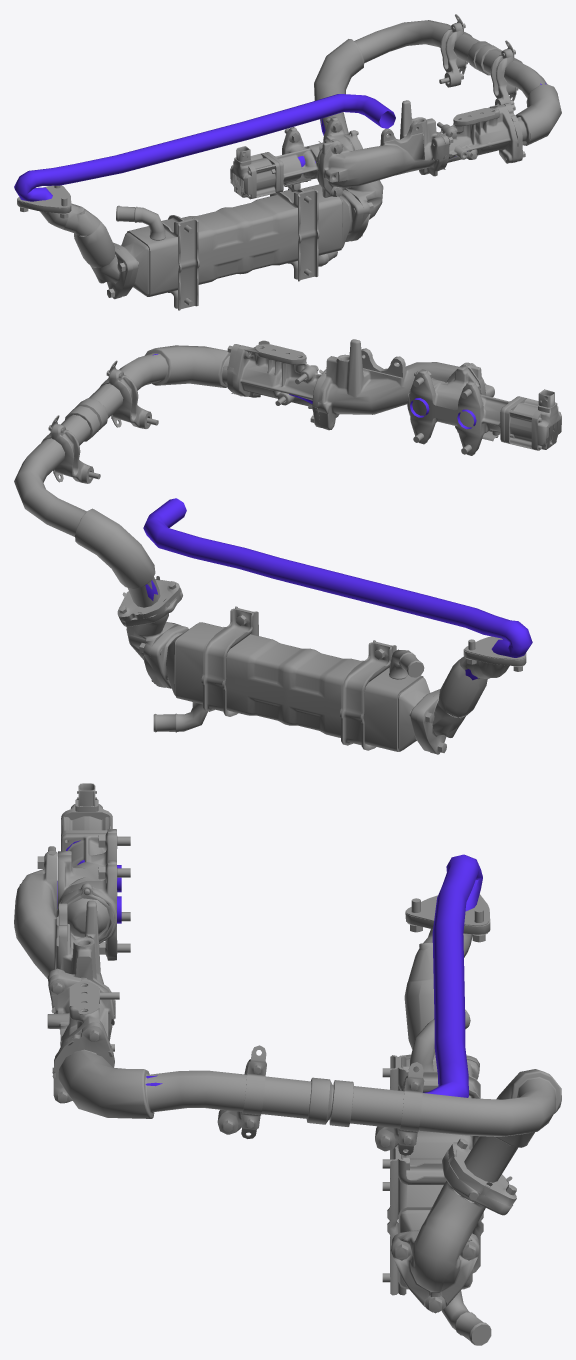
File: Exxotest_Export_EGR.FBX
3 views of the same model, one above another, from view 1: azimuth 30°, elevation 25°; view 2: azimuth 150°, elevation 25°; view 3: azimuth 270°, elevation 25° (orthographic). The views are drawn at different scales.
Parts seen in each view (by area): view 1: 21881694_asm, Mesh_EGR_Radiateur, Vanne EGR interieur, Mesh_EGR_21881694Asm_Part01; view 2: 21881694_asm, Mesh_EGR_Radiateur, Vanne EGR interieur, Mesh_EGR_21881694Asm_Part01; view 3: 21881694_asm, Mesh_EGR_Radiateur, Vanne EGR interieur, Mesh_EGR_21881694Asm_Part01.
Boxes of the visible parts, x1=… form: 21881694_asm: x1=17, y1=14, x2=561, y2=299; Mesh_EGR_Radiateur: x1=116, y1=184, x2=350, y2=310; Vanne EGR interieur: x1=14, y1=83, x2=546, y2=201; Mesh_EGR_21881694Asm_Part01: x1=230, y1=117, x2=362, y2=199; 21881694_asm: x1=14, y1=339, x2=526, y2=754; Mesh_EGR_Radiateur: x1=153, y1=606, x2=430, y2=751; Vanne EGR interieur: x1=143, y1=354, x2=532, y2=680; Mesh_EGR_21881694Asm_Part01: x1=407, y1=365, x2=561, y2=455; 21881694_asm: x1=14, y1=846, x2=561, y2=1313; Mesh_EGR_Radiateur: x1=382, y1=1009, x2=491, y2=1345; Vanne EGR interieur: x1=57, y1=840, x2=482, y2=1097; Mesh_EGR_21881694Asm_Part01: x1=56, y1=783, x2=130, y2=960.
Bounding box in the file's own units: 2189 × 1233 × 1508.
